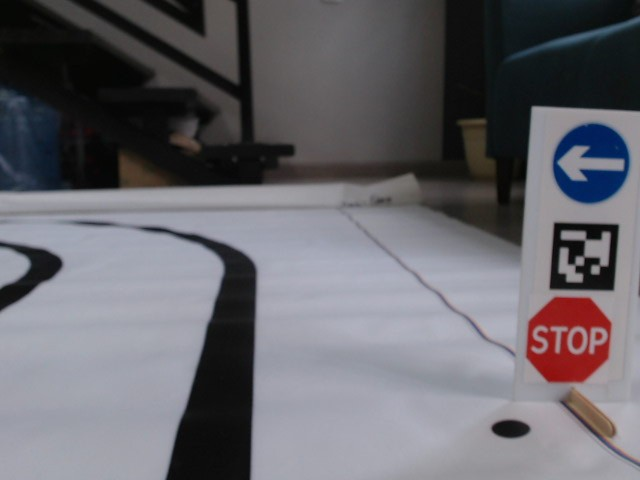Stop: (526, 295, 611, 382)
